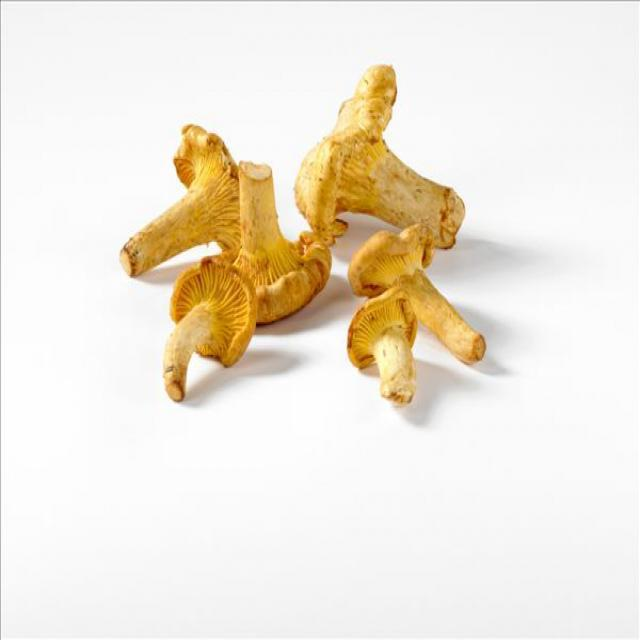Cantharellus cibarius: (294, 63, 467, 251), (119, 118, 256, 278), (351, 221, 495, 362), (220, 161, 329, 324), (166, 254, 253, 398), (351, 286, 422, 405)
